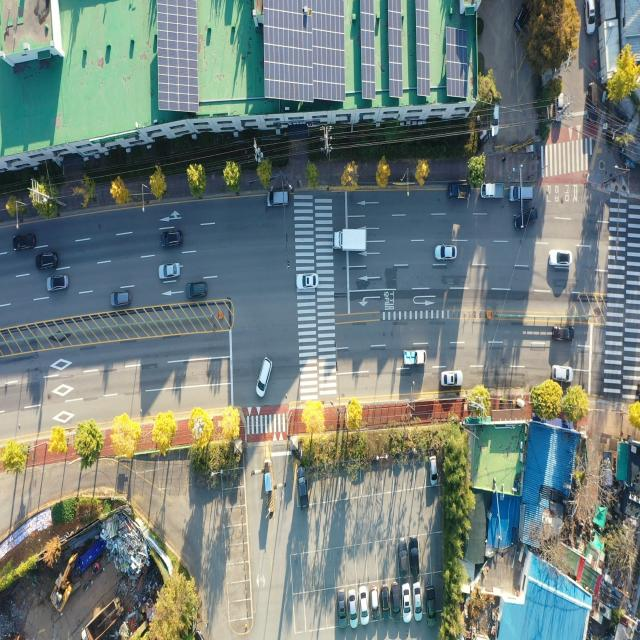car: (256, 358, 272, 398), (512, 209, 536, 231), (550, 248, 573, 268), (508, 186, 533, 204), (516, 2, 530, 33), (588, 83, 598, 125), (442, 371, 464, 389), (13, 234, 35, 252), (268, 190, 290, 208), (297, 466, 308, 502), (358, 586, 368, 625), (585, 0, 596, 35), (348, 590, 358, 628), (426, 586, 436, 624), (37, 252, 58, 270), (553, 324, 574, 342), (46, 275, 68, 292), (436, 245, 458, 261), (411, 536, 420, 575), (414, 584, 423, 622), (110, 290, 130, 307), (162, 232, 182, 249), (554, 365, 574, 382), (299, 274, 320, 290), (339, 593, 348, 629), (161, 265, 181, 281), (187, 282, 207, 298), (488, 107, 498, 138), (391, 585, 400, 619), (398, 538, 406, 576), (402, 584, 410, 621), (382, 586, 391, 617), (429, 456, 438, 486), (557, 96, 566, 122), (370, 587, 378, 613)
medium_truck: (334, 227, 368, 252)
small_truck: (480, 181, 504, 199), (602, 451, 613, 489), (488, 608, 501, 640), (405, 349, 428, 367), (484, 602, 496, 635), (449, 182, 472, 199)
